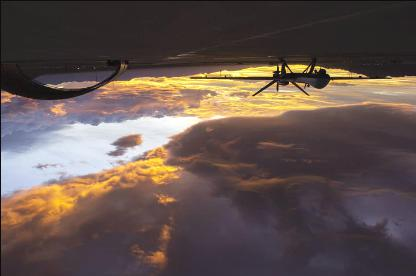MQ9: (188, 57, 390, 95)
